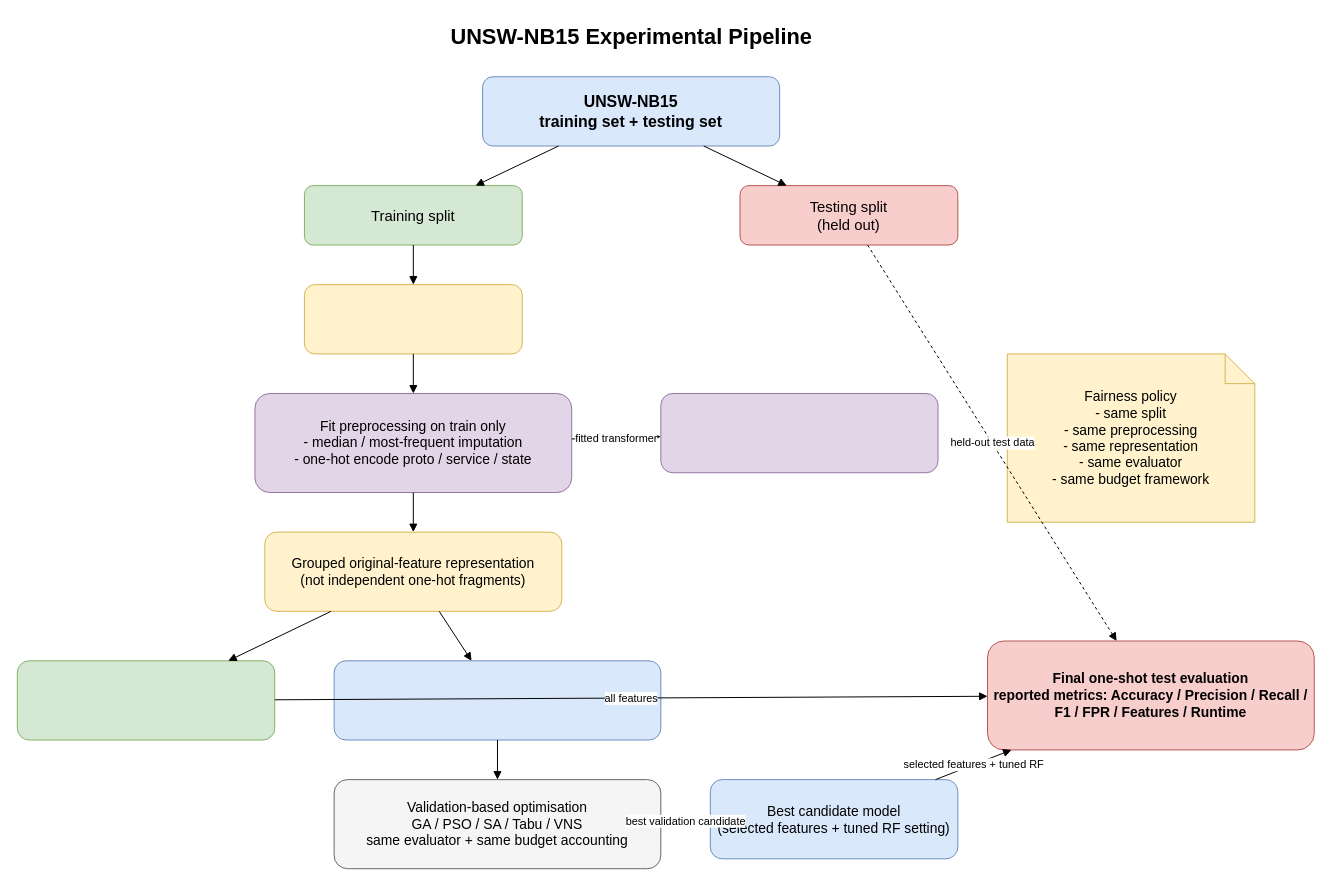
This 1332x886 diagram has some shape labels left out. The box of each missing label's shape, as (x1, y1, x2, y2) in pixels:
Baseline branch All grouped features + default RF: (16, 660, 275, 740)
Metaheuristic branch Grouped feature subset + RF hyperparameters: (333, 660, 661, 740)
Train / validation split inside training data: (303, 284, 522, 354)
Transform validation and test only (no refit, leakage-safe): (660, 393, 938, 473)
